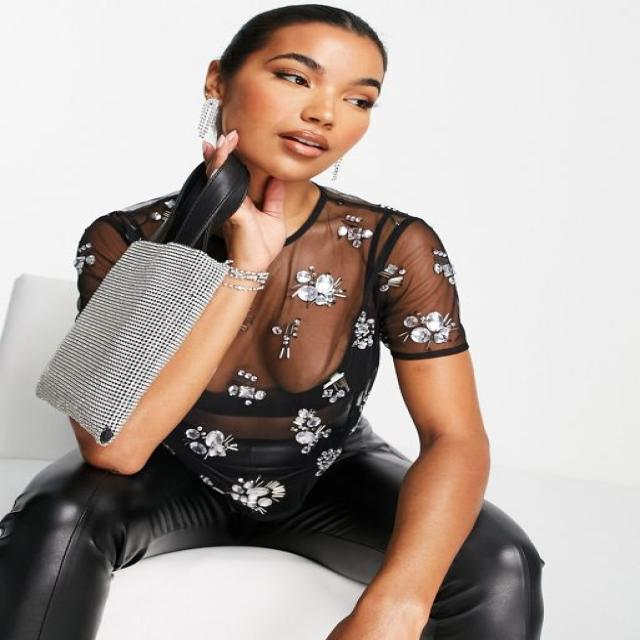tshirt: (39, 167, 470, 520)
